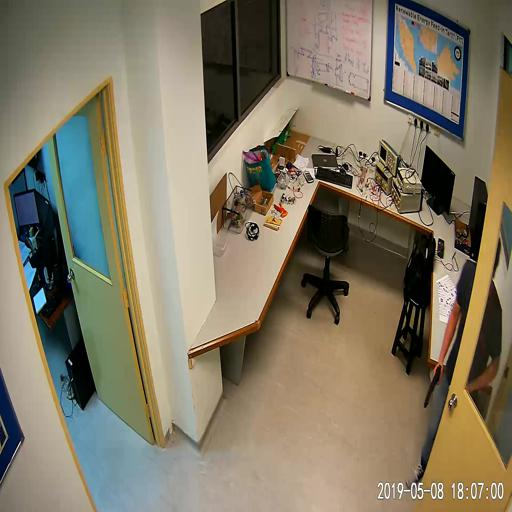pistol: (422, 363, 441, 408)
